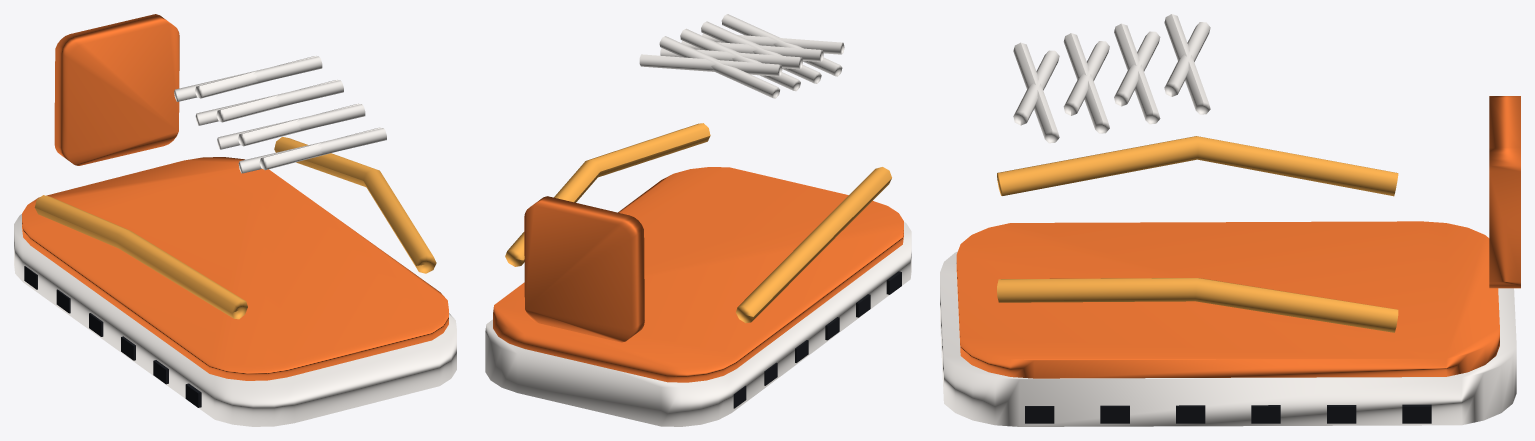
Rendered from sol_left_shoe_trim.glb.
The picture shows the model from 3 angles, left to right: view 1: azimuth 30°, elevation 25°; view 2: azimuth 150°, elevation 25°; view 3: azimuth 270°, elevation 25°; orthographic projection. The views are drawn at different scales.
Visible parts, largest first — view 1: sol_left_shoe_trim; view 2: sol_left_shoe_trim; view 3: sol_left_shoe_trim.
Part boxes in pixels (box(x1,y1,x2,y2)): sol_left_shoe_trim: box(14, 14, 456, 426); sol_left_shoe_trim: box(485, 14, 911, 426); sol_left_shoe_trim: box(940, 14, 1520, 426).
Size of the model in its own units: 0.172 by 0.1622 by 0.277.
